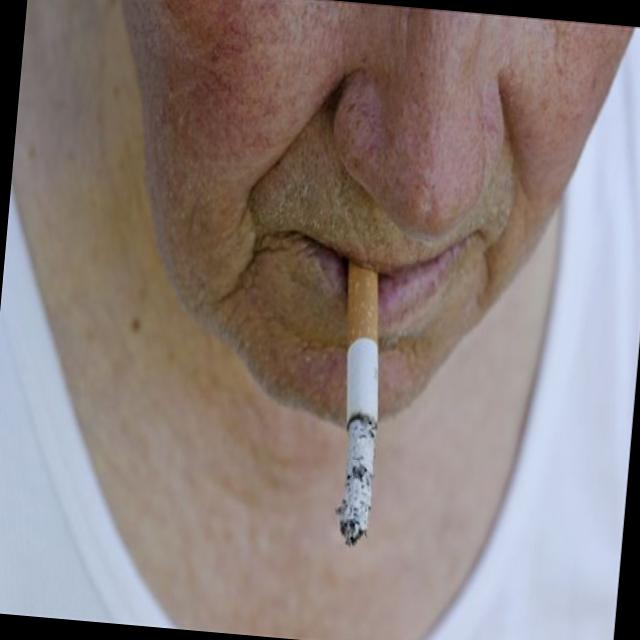cigarette: (318, 258, 396, 548)
